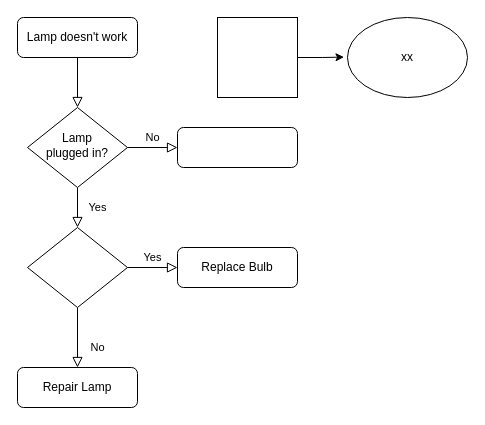
This 485x425 diagram has some shape labels left out. Here are the shapes that lost their labels. From the top down, the centre of each, then its label:
[257,57]: test
[237,147]: Plug in lamp
[77,267]: Bulb burned out?
